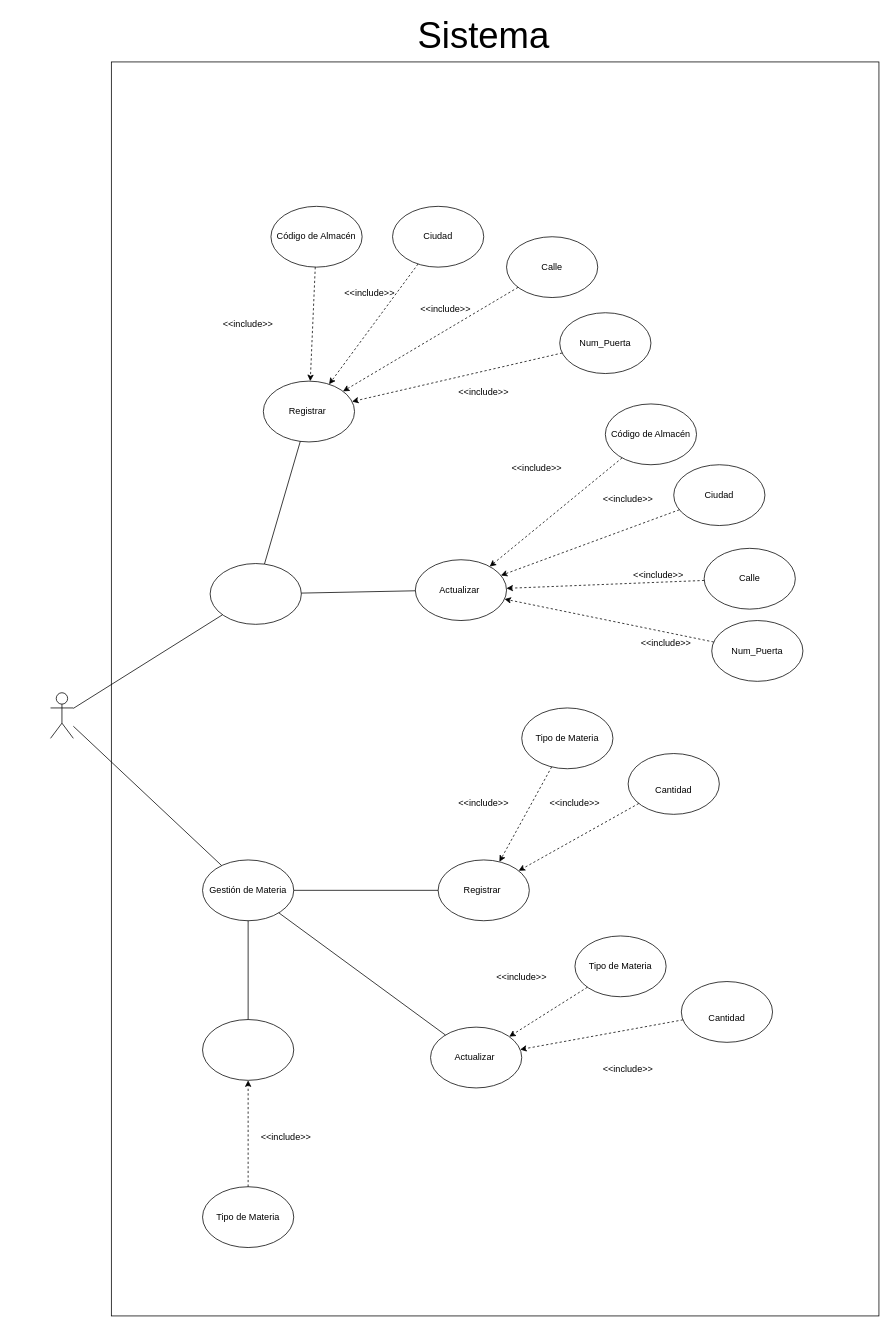
The diagram is 892 pixels wide and 1329 high, and some of its shapes have lost their labels. Here are the shapes that lost their labels. From the top down, the box of each, then its label:
(209, 563, 301, 624): Gestión de Almacenes
(50, 692, 73, 738): Administrador_Personal
(202, 1019, 294, 1080): Eliminar
